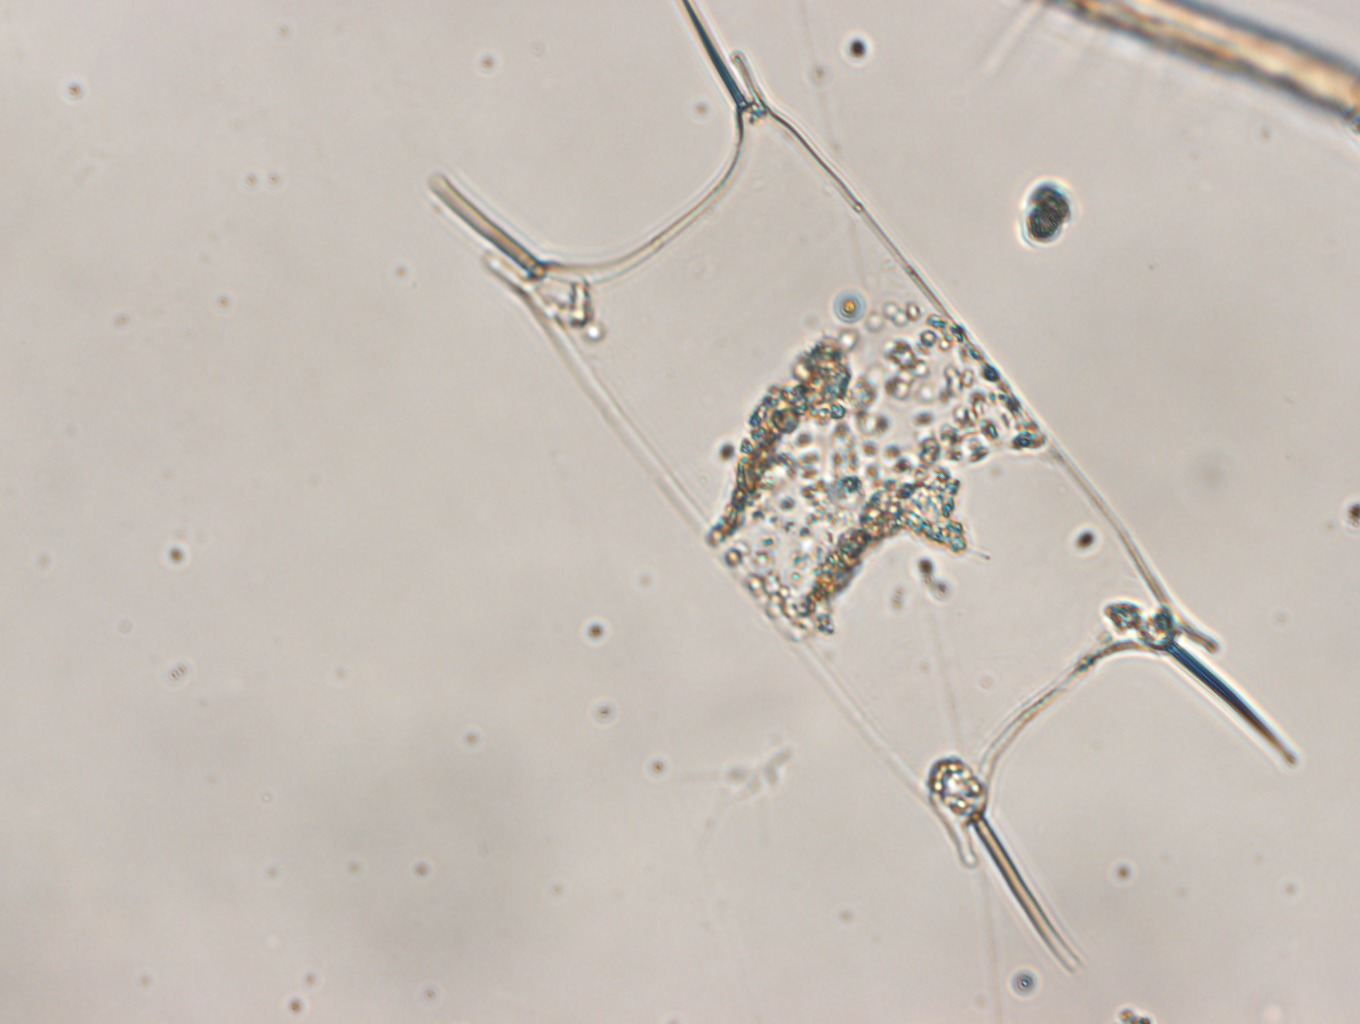biddulphia: (433, 1, 1301, 977)
